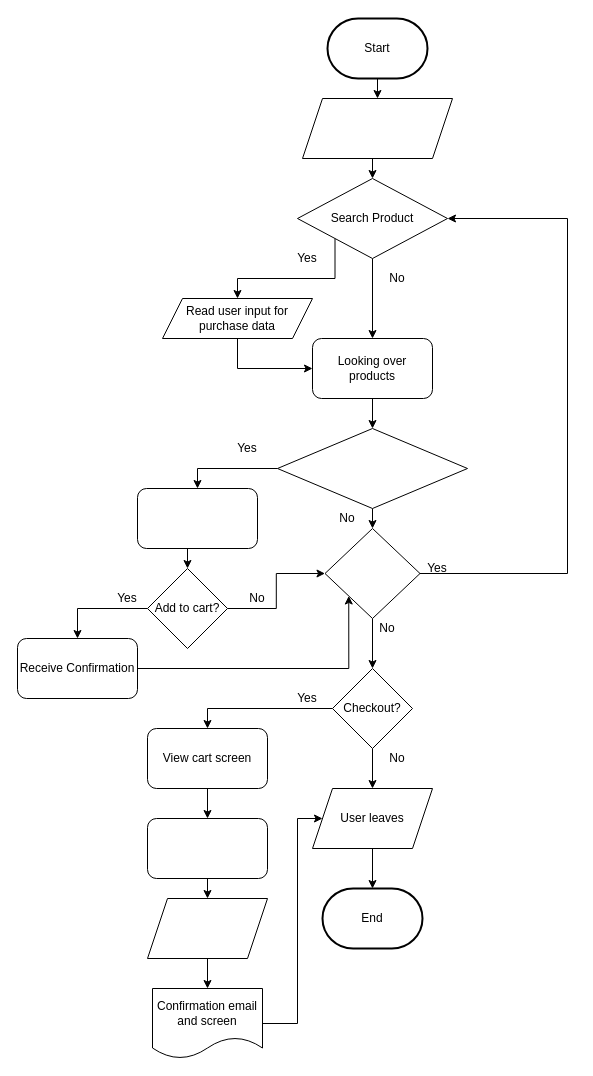
This 593x1076 diagram has some shape labels left out. The shapes that lost their labels are listed below. From the top down, each one's centre as x and y in pixels, then its label:
At (x=377, y=128): "User Enters Website".
At (x=372, y=468): "Viewing a specific Product".
At (x=197, y=518): "Open Product Page".
At (x=372, y=573): "Continue Shopping?".
At (x=207, y=848): "View Payment".
At (x=207, y=928): "Read payment information".
